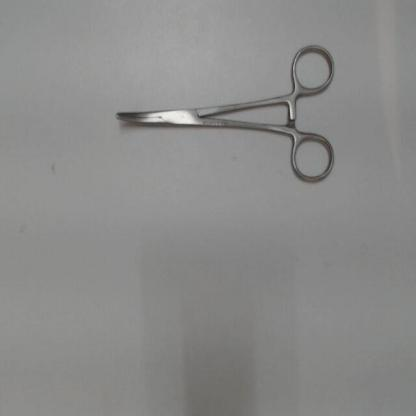Crile Artery Forceps: (105, 38, 342, 195)
